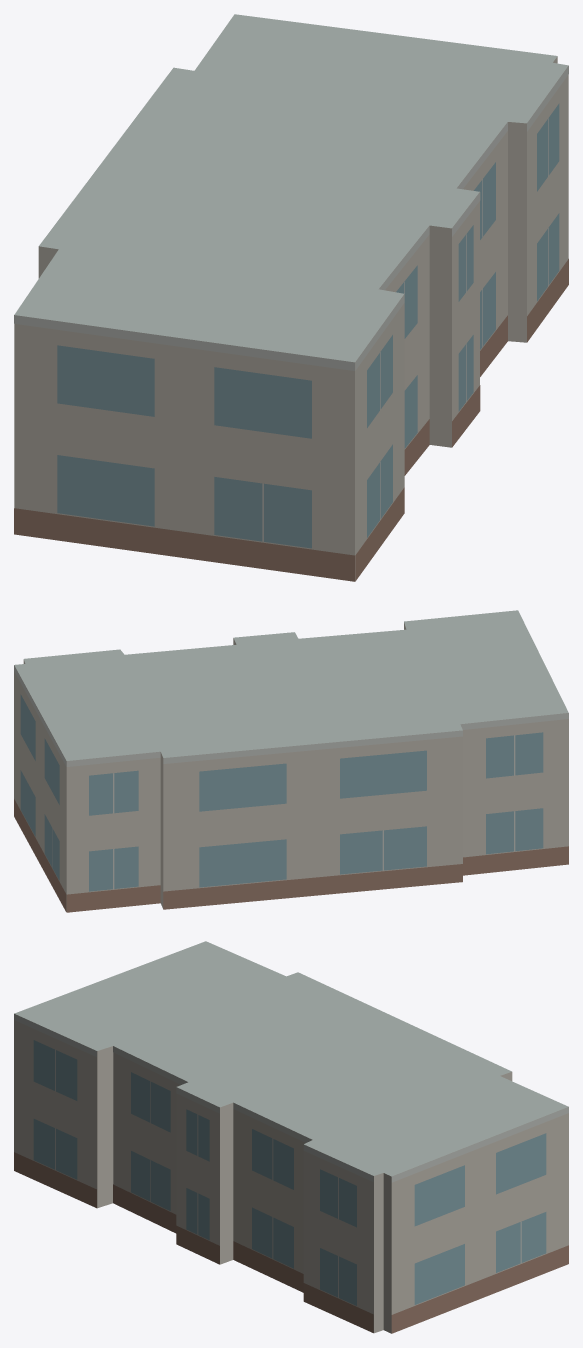
The model's file is survey-upis-32665734.glb.
The picture shows the model from 3 angles, top to bottom: view 1: azimuth 30°, elevation 25°; view 2: azimuth 150°, elevation 25°; view 3: azimuth 270°, elevation 25°; orthographic projection. The views are drawn at different scales.
Parts seen in each view (by area): view 1: survey-upis-32665734.tmp; view 2: survey-upis-32665734.tmp; view 3: survey-upis-32665734.tmp.
Part boxes in pixels (x1,y1,x2,y2): survey-upis-32665734.tmp: (14, 14, 568, 581); survey-upis-32665734.tmp: (14, 610, 568, 912); survey-upis-32665734.tmp: (14, 941, 568, 1333).
Bounding box in the file's own units: 19.6 × 6.1 × 19.51.
